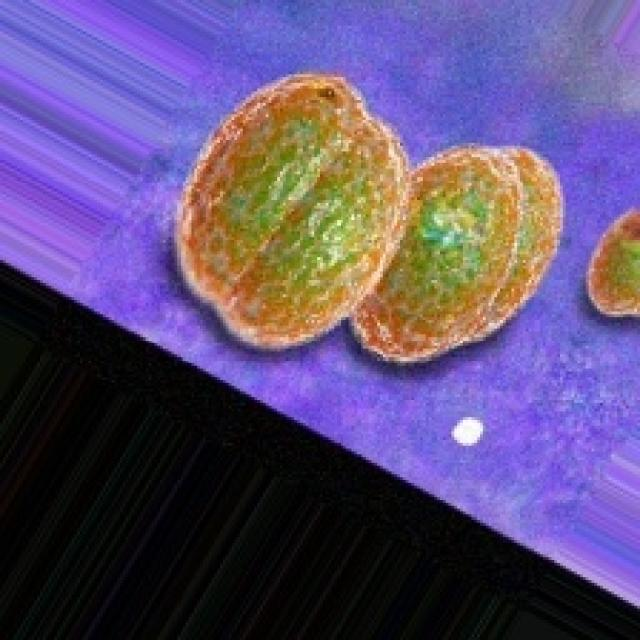Spherical_bacteria: (172, 68, 408, 352), (346, 140, 563, 363), (583, 200, 637, 320)
